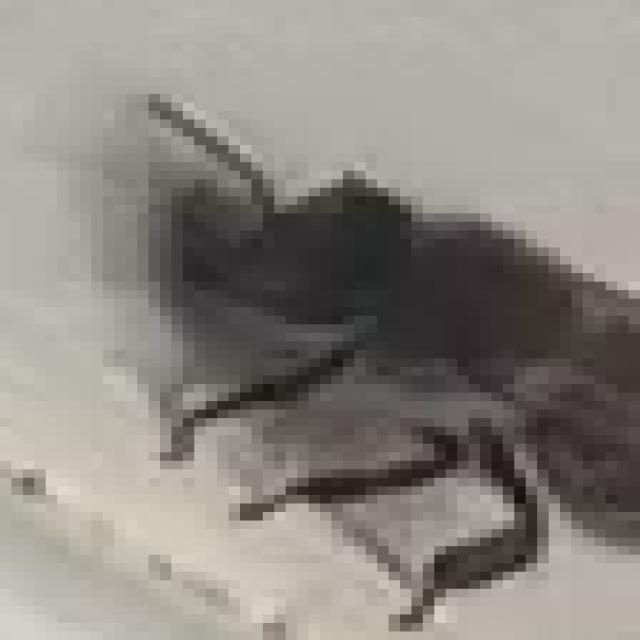honeybee: (150, 64, 640, 609)
